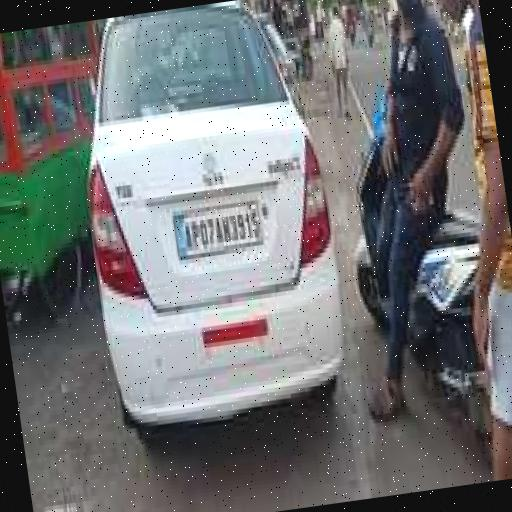license_plate`: (168, 192, 260, 249)
